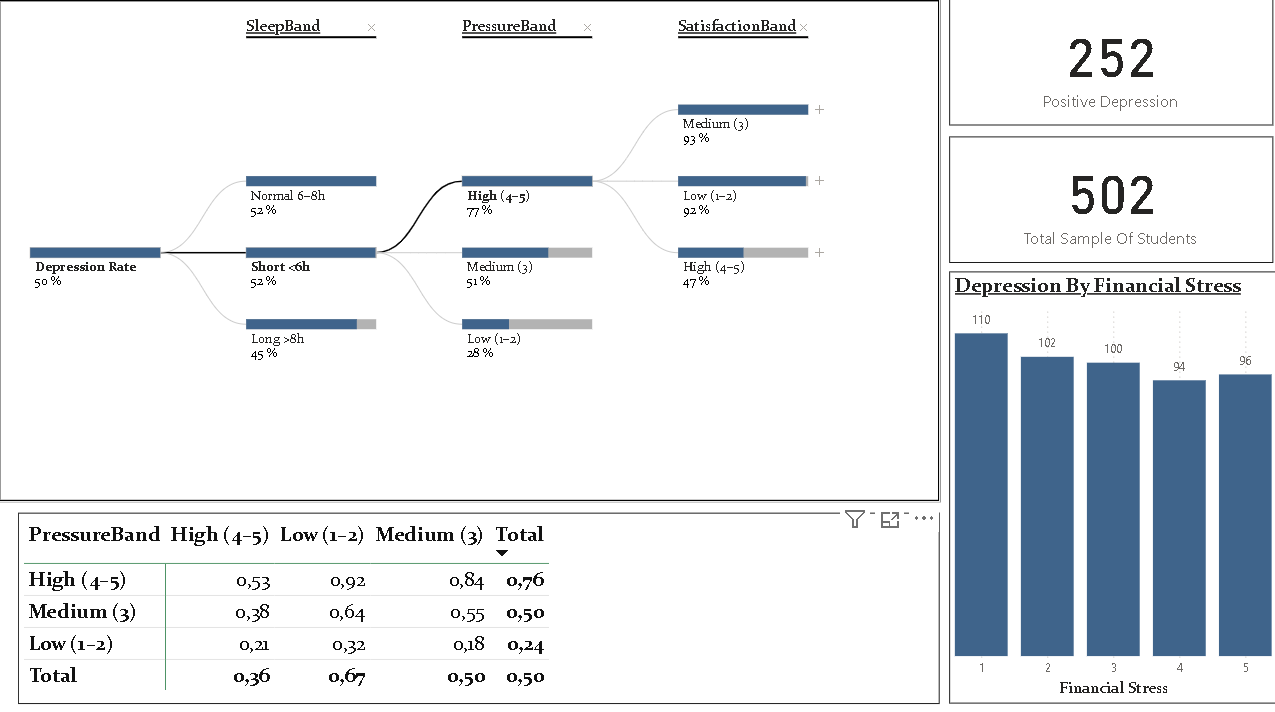

This screenshot's page, from the dashboard's own definition file:
{"tool":"powerbi","page":{"name":"Drivers","canvas":[1280,720],"ordinal":1},"visuals":[{"type":"pivotTable","fields":{"Rows":["vw_students_bi.PressureBand"],"Columns":["vw_students_bi.SatisfactionBand"],"Values":["vw_students_bi.Depression Rate"]},"box":[20,513.8,921.8,191.2],"z":0},{"type":"clusteredColumnChart","title":"Depression By Financial Stress","fields":{"Category":["vw_students_bi.Financial Stress"],"Y":["CountNonNull(vw_students_bi.DepressionLabel)"]},"box":[951.1,272.8,328.9,432.2],"z":1000},{"type":"decompositionTreeVisual","fields":{"Analyze":["vw_students_bi.Depression Rate"],"ExplainBy":["vw_students_bi.SleepBand","vw_students_bi.PressureBand","vw_students_bi.SatisfactionBand","vw_students_bi.FamilyHistLabel","vw_students_bi.Gender"]},"box":[0,0,942.2,503.6],"z":2000},{"type":"card","fields":{"Values":["vw_students_bi.Positive Depression Rate"]},"box":[951.1,0,323.8,126.2],"z":3000},{"type":"card","fields":{"Values":["vw_students_bi.Measure"]},"box":[951.1,137.7,323.8,126.2],"z":4000}]}

Visuals, with their boxes in screenshot pixels (x1, y1, x2, y2), scaled from the page's 1280x720 canvas onto the 1275x712 screenshot:
pivotTable - vw_students_bi.PressureBand x vw_students_bi.SatisfactionBand: 20,508,938,697
"Depression By Financial Stress" clusteredColumnChart: 947,270,1274,697
decompositionTreeVisual - vw_students_bi.Depression Rate x vw_students_bi.SleepBand: 0,0,939,498
card - vw_students_bi.Positive Depression Rate: 947,0,1270,125
card - vw_students_bi.Measure: 947,136,1270,261
